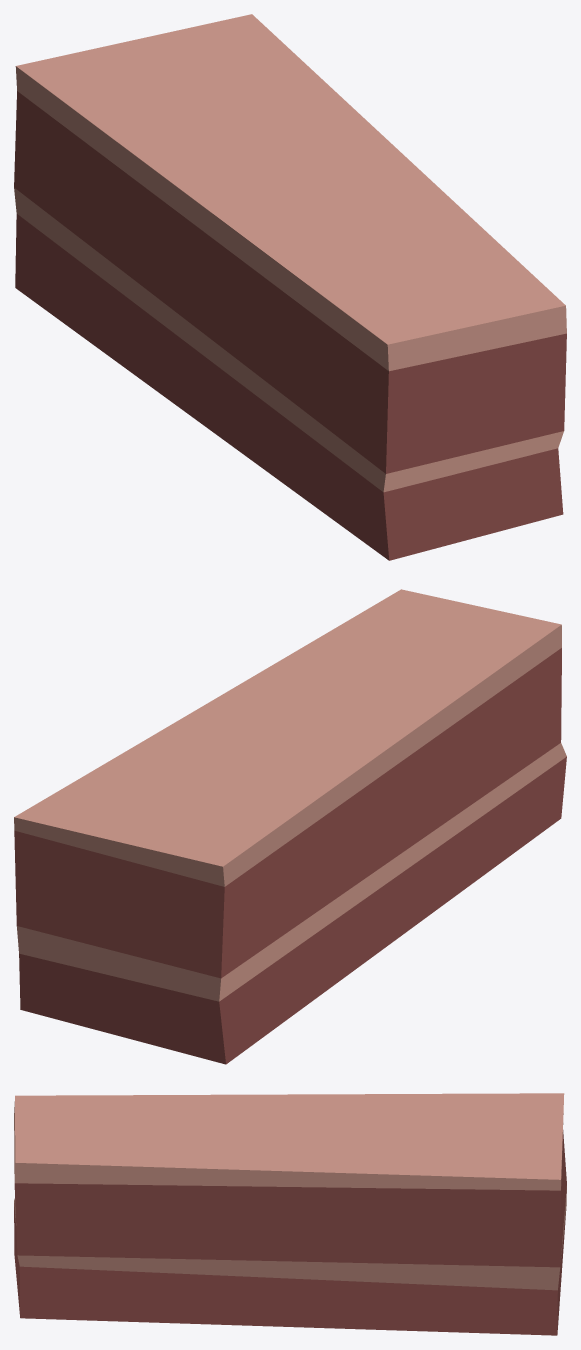
The model's file is bacon.fbx.
3 views of the same model, one above another, from view 1: azimuth 30°, elevation 25°; view 2: azimuth 150°, elevation 25°; view 3: azimuth 270°, elevation 25° (orthographic). The views are drawn at different scales.
Visible parts, largest first — view 1: bacon; view 2: bacon; view 3: bacon.
Boxes of the visible parts, bbox=[...] form: bacon: bbox=[14, 14, 566, 560]; bacon: bbox=[14, 589, 566, 1064]; bacon: bbox=[14, 1093, 566, 1335].
Bounding box in the file's own units: 7.38 × 6.44 × 19.95.
Materials: 1 (1 with a texture image).
